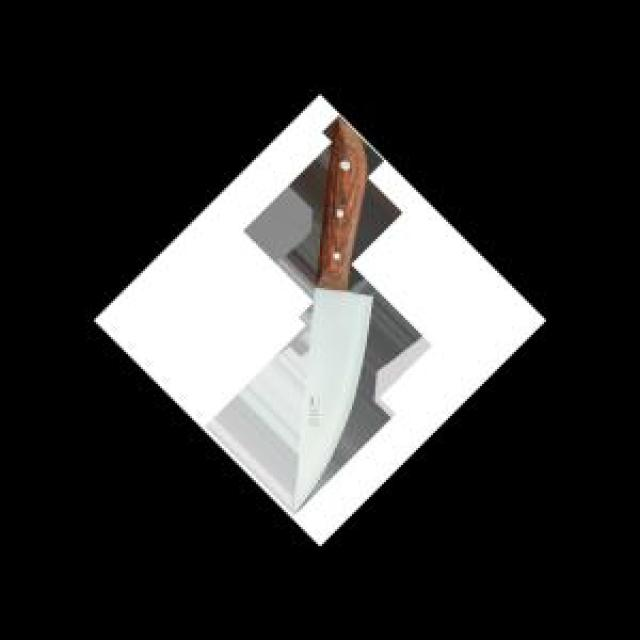knife: (290, 120, 371, 516)
